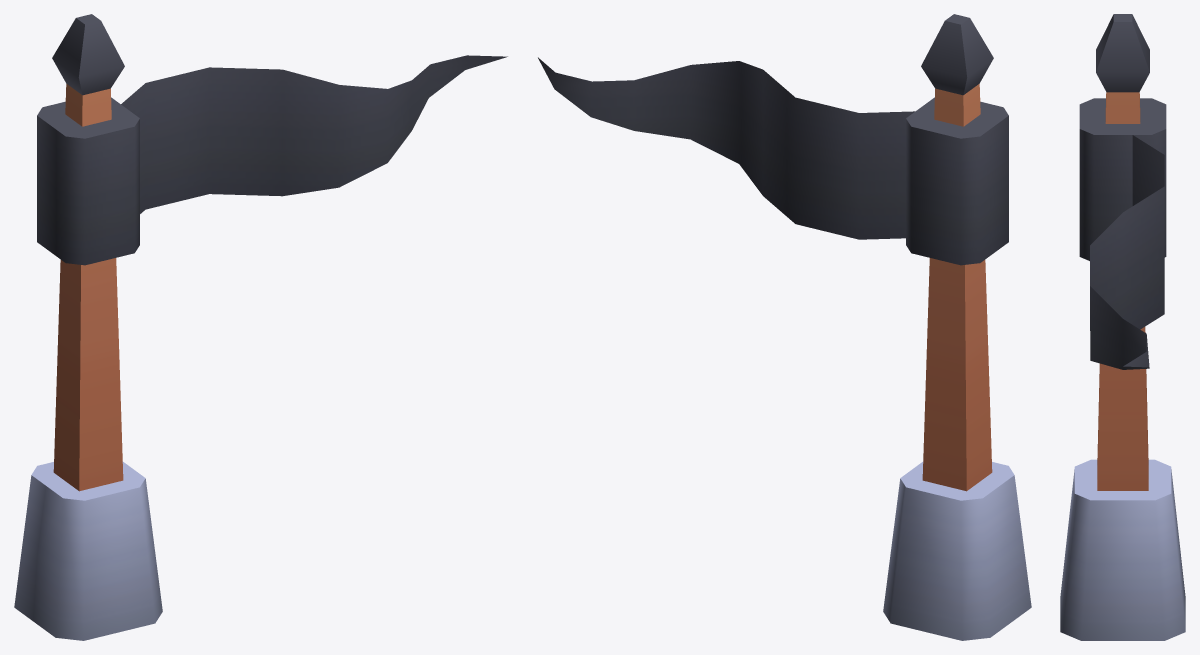
Rendered from flag-pirate-pennant.glb.
The picture shows the model from 3 angles, left to right: view 1: azimuth 30°, elevation 25°; view 2: azimuth 150°, elevation 25°; view 3: azimuth 270°, elevation 25°; orthographic projection.
Parts seen in each view (by area): view 1: flag-pirate-pennant; view 2: flag-pirate-pennant; view 3: flag-pirate-pennant.
Part boxes in pixels (bbox=[...]): flag-pirate-pennant: bbox=[14, 14, 507, 640]; flag-pirate-pennant: bbox=[538, 14, 1031, 640]; flag-pirate-pennant: bbox=[1060, 14, 1185, 640].
Size of the model in its own units: 1.76 by 2.1 by 0.3988.
1 material, 1 textured.
